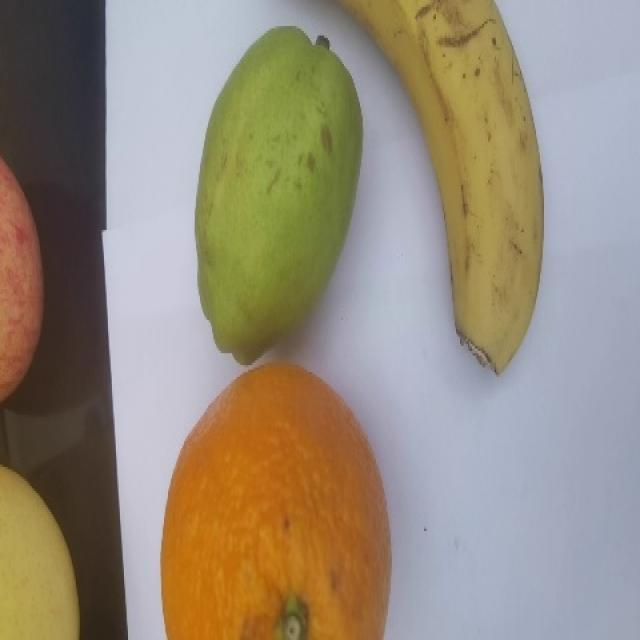Apple: (0, 153, 45, 407)
Banana: (332, 0, 545, 375)
Orange: (159, 360, 392, 639)
